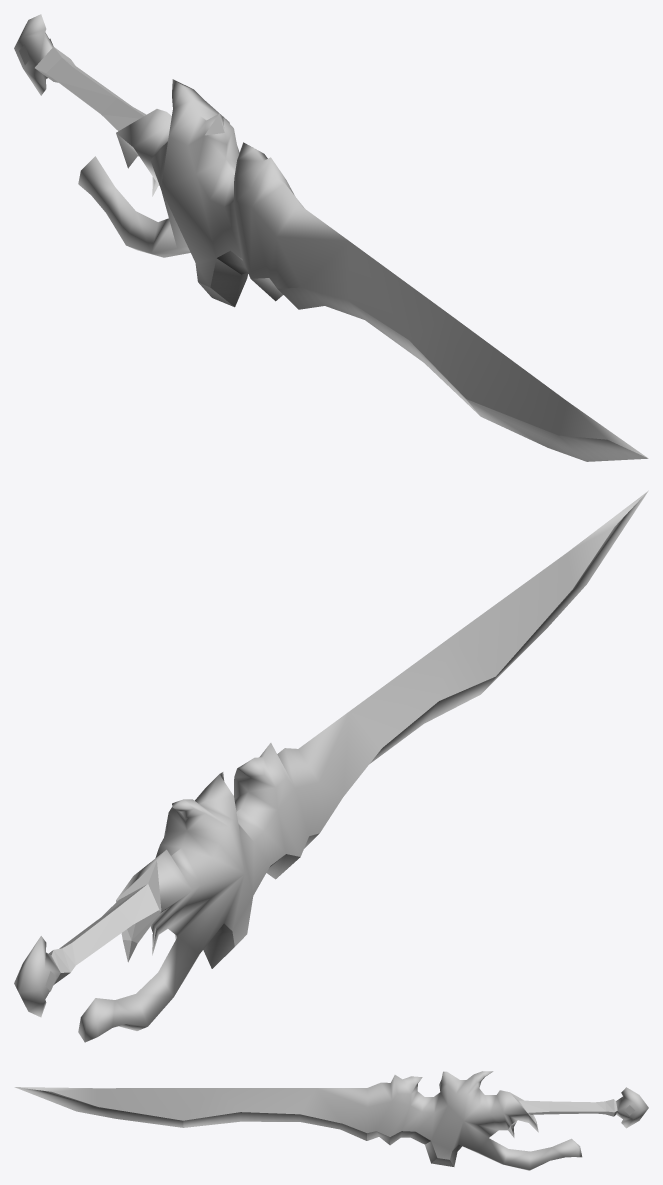
Rendered from xiesetianshizhijian.FBX.
3 renders of one model, top to bottom at view 1: azimuth 30°, elevation 25°; view 2: azimuth 150°, elevation 25°; view 3: azimuth 270°, elevation 25°, orthographic. The views are drawn at different scales.
Visible parts, largest first — view 1: xiesetianshizhijian; view 2: xiesetianshizhijian; view 3: xiesetianshizhijian.
Boxes of the visible parts, left/top/right/bottom form: xiesetianshizhijian: left=14, top=14, right=648, bottom=461; xiesetianshizhijian: left=14, top=490, right=648, bottom=1042; xiesetianshizhijian: left=14, top=1071, right=648, bottom=1170.
Size of the model in its own units: 41.99 by 94.52 by 546.
